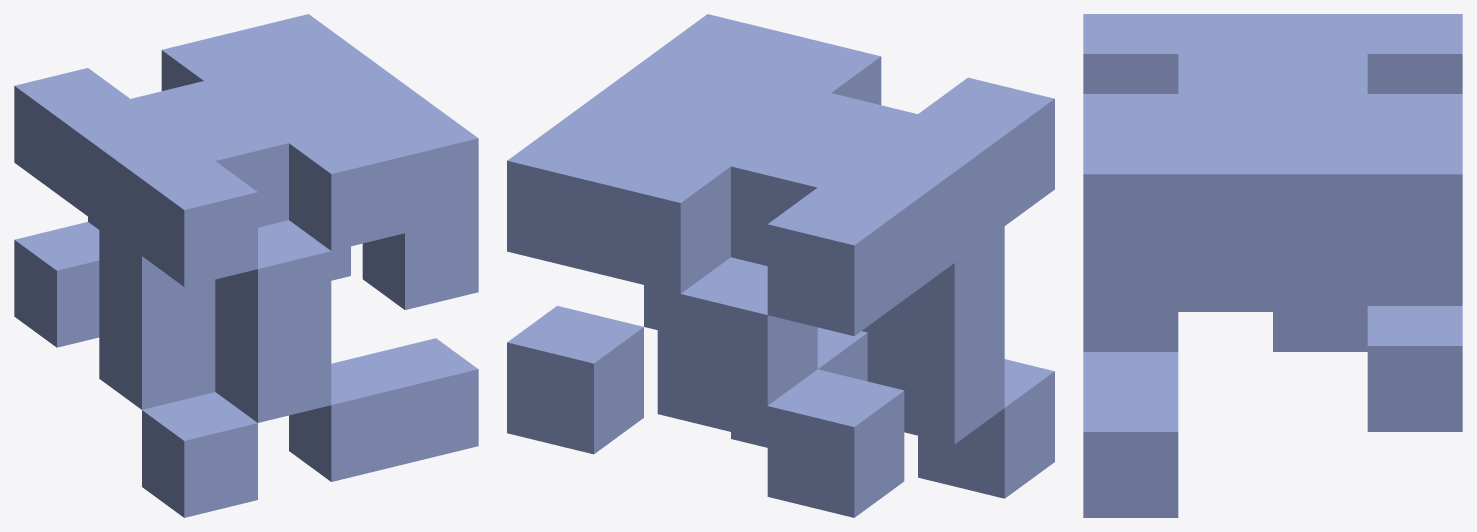
3 renders of one model, left to right at view 1: azimuth 30°, elevation 25°; view 2: azimuth 150°, elevation 25°; view 3: azimuth 270°, elevation 25°, orthographic. The views are drawn at different scales.
Visible parts, largest first — view 1: _changes.017; view 2: _changes.017; view 3: _changes.017.
Part boxes in pixels (x1,y1,x2,y2): _changes.017: (14,14,478,517); _changes.017: (507,14,1054,517); _changes.017: (1083,14,1462,517).
Bounding box in the file's own units: 0.1041 × 0.1041 × 0.1041.
